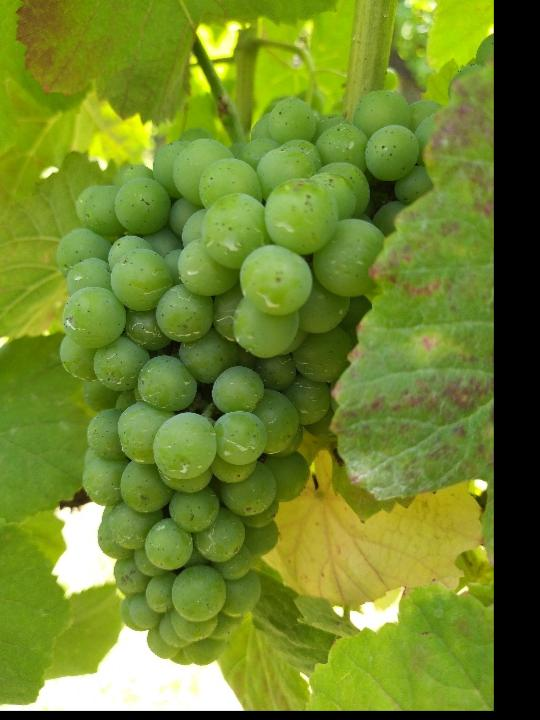grape: (55, 93, 452, 669)
